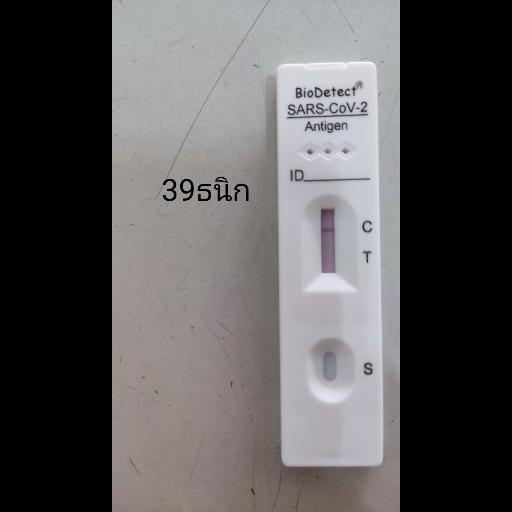Neg: (275, 61, 383, 465)
